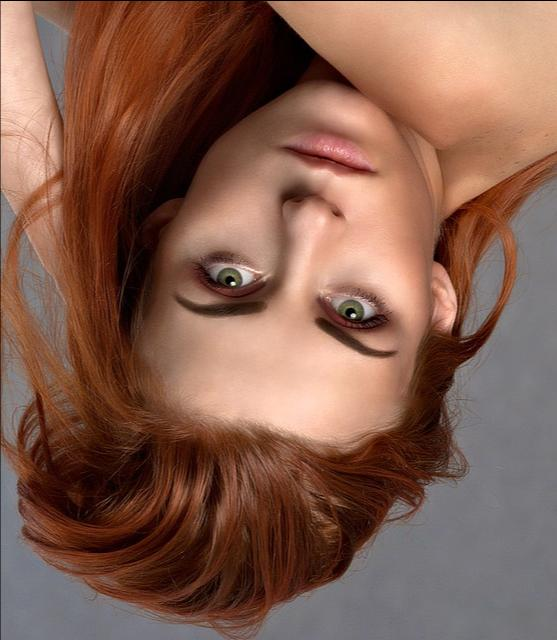Non_Gorille: (0, 0, 547, 640)
